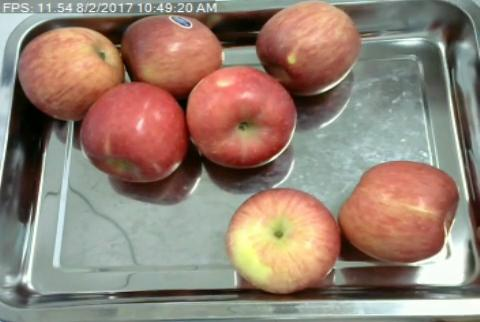apple: (340, 160, 460, 263), (226, 189, 340, 293), (189, 67, 296, 167), (82, 83, 187, 183), (259, 2, 359, 94), (21, 28, 115, 112), (123, 16, 225, 87)
